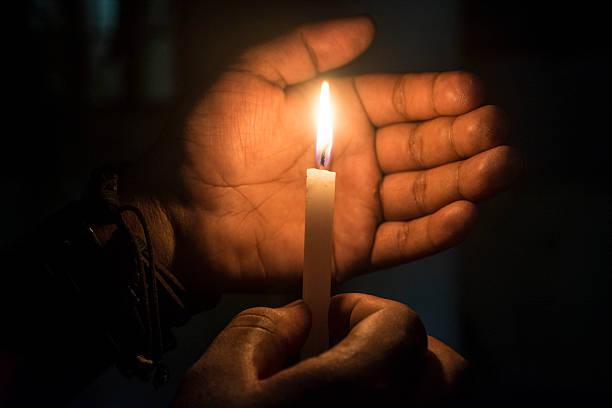Fire: (311, 78, 336, 167)
